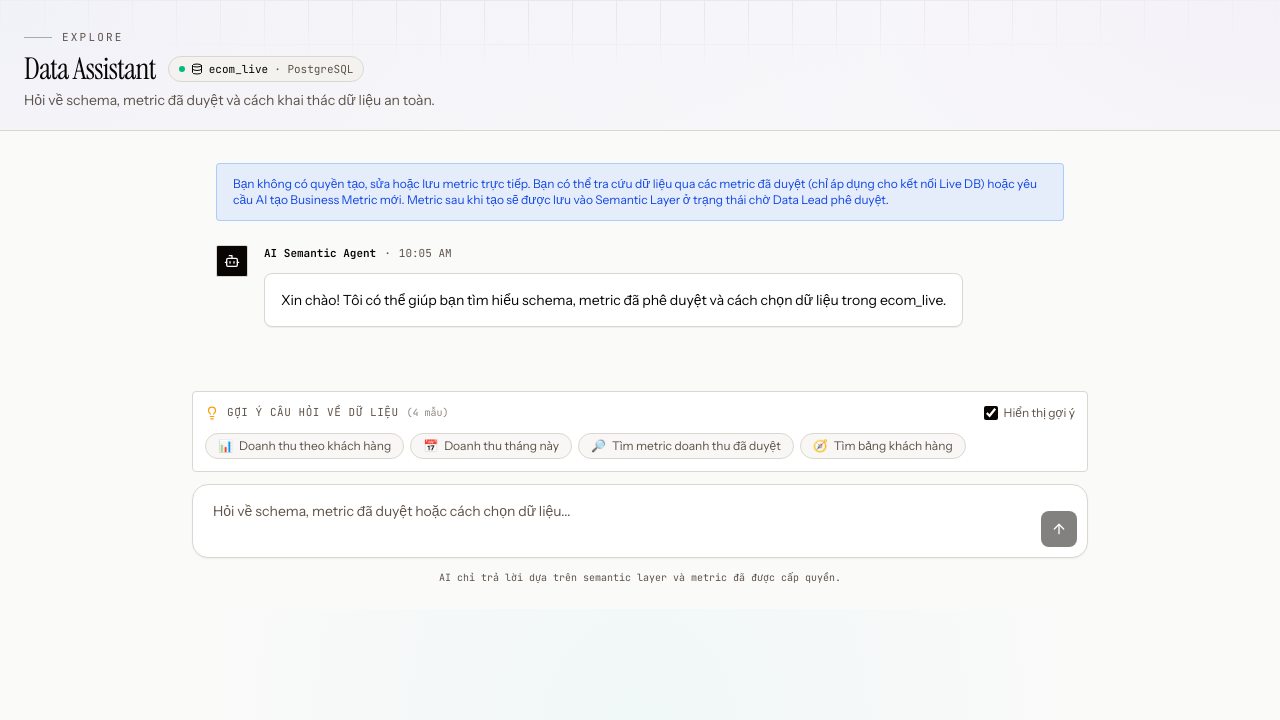
Test: AIStudioView › renders semantic query result table when response has intent semantic_query
The width and height of the screenshot is (1280, 720).
Type "Tổng doanh thu theo khách hàng" into the text box with placeholder "Hỏi về schema, metric đã duyệt hoặc cách chọn dữ liệu..." at (618, 521), box [203,495,1033,547]
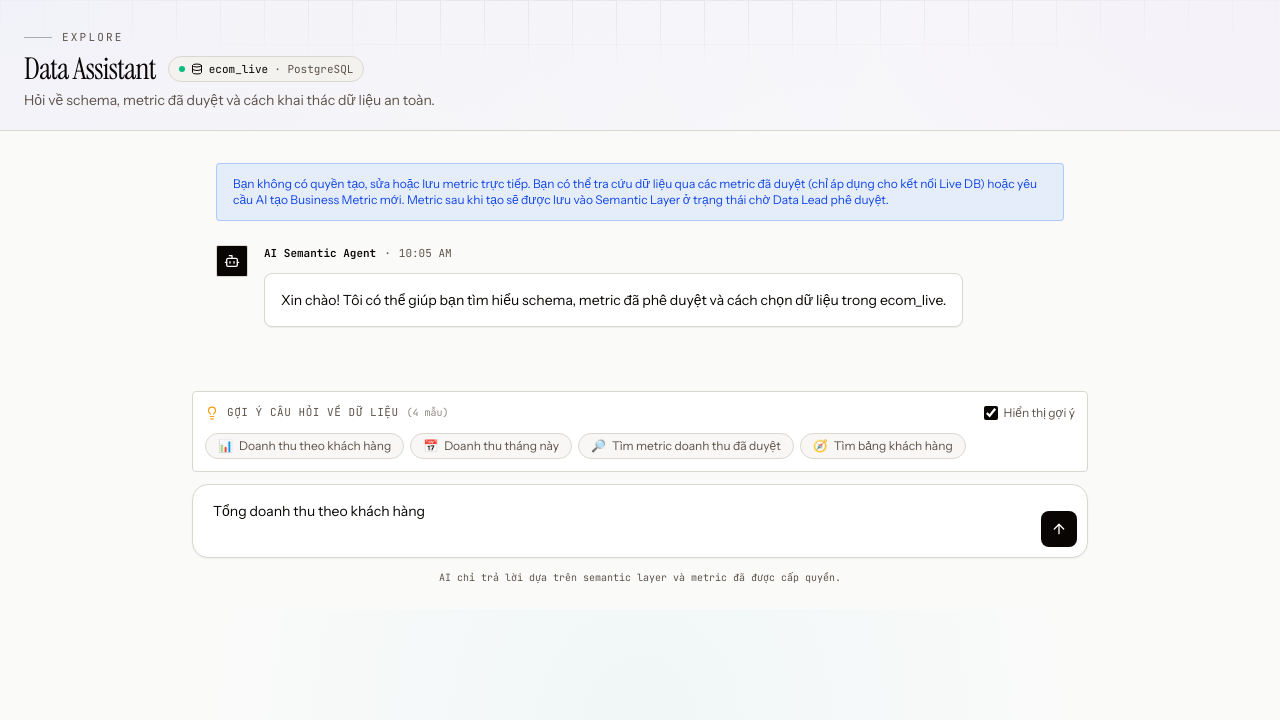
Click the button named "Send message" at (1059, 529), box [1041,511,1077,547]
(page scrolled)
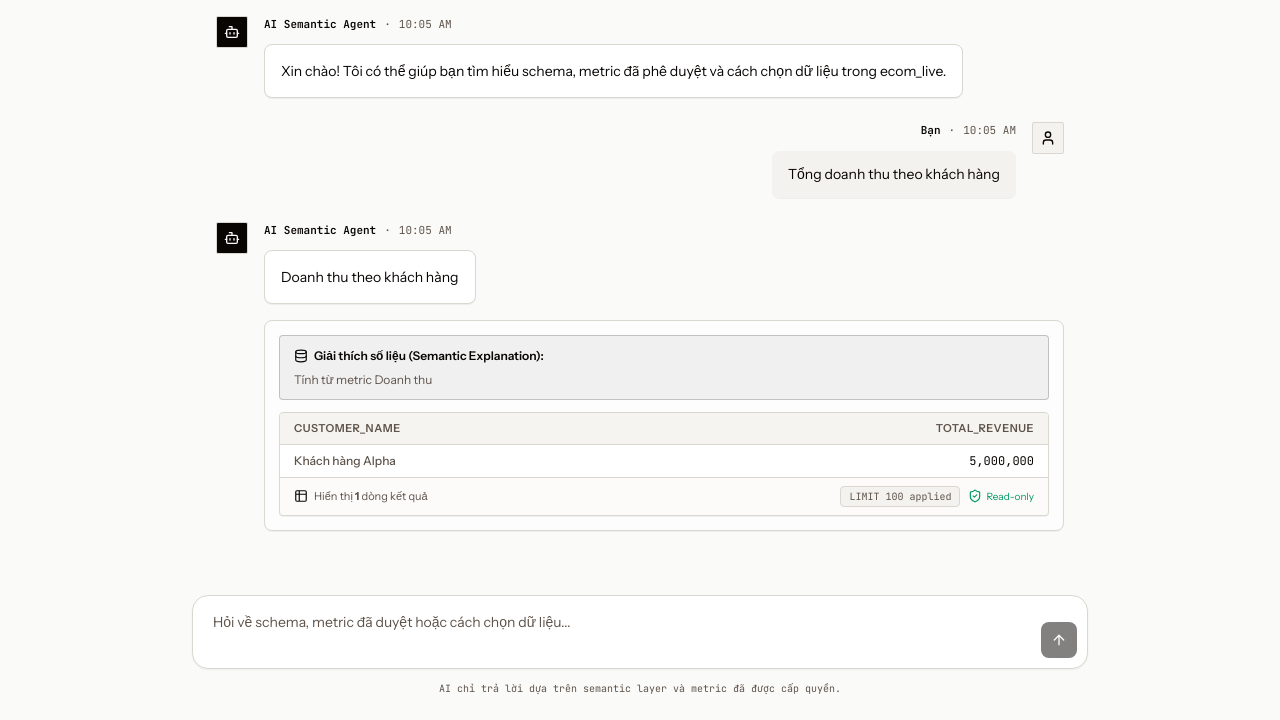
Result: the text "Khách hàng Alpha" is shown at [280,444,676,477]
Result: the text "5,000,000" is shown at [676,444,1048,477]
